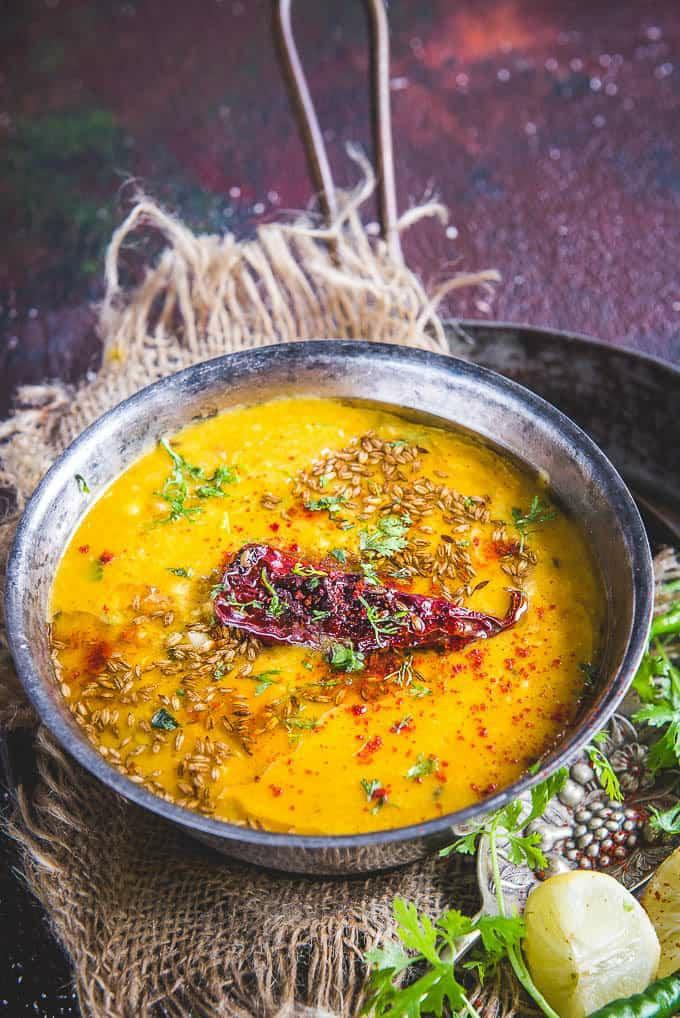Dal: (49, 396, 599, 835)
